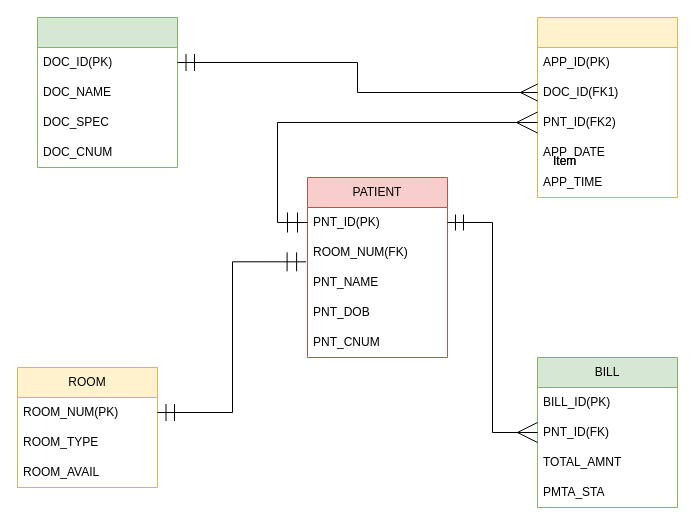
The diagram is 695 pixels wide and 525 high, and some of its shapes have lost their labels. Here are the shapes that lost their labels. From the top down, the box of each, then its label:
(36, 16, 178, 168): DOCTOR
(536, 16, 678, 198): APPOINMENT
